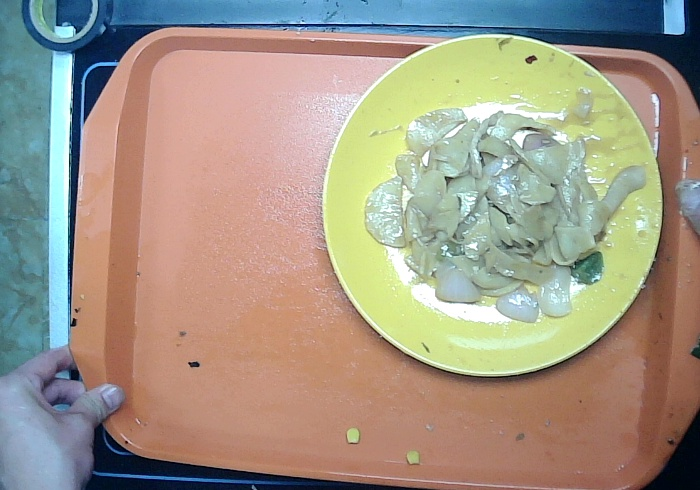HZYJPL-Huang_Se_Yuan_Pan: (319, 31, 664, 380)
